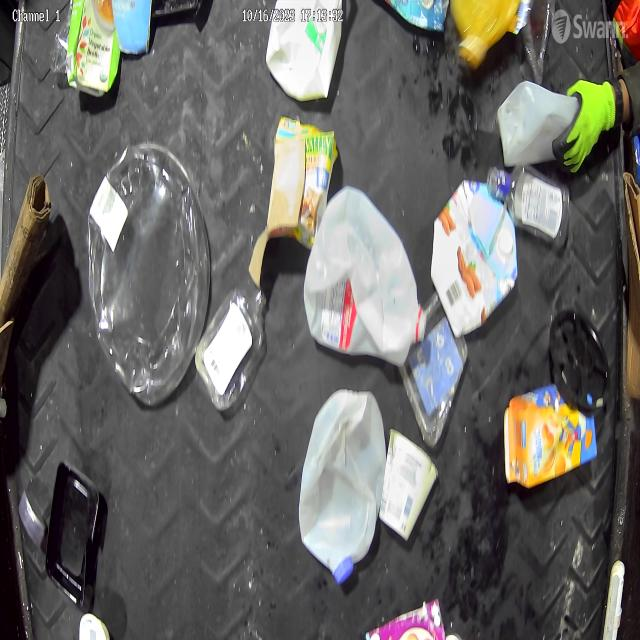milk_jug: (306, 184, 430, 371), (299, 392, 383, 587), (494, 63, 575, 174), (264, 0, 344, 104)
